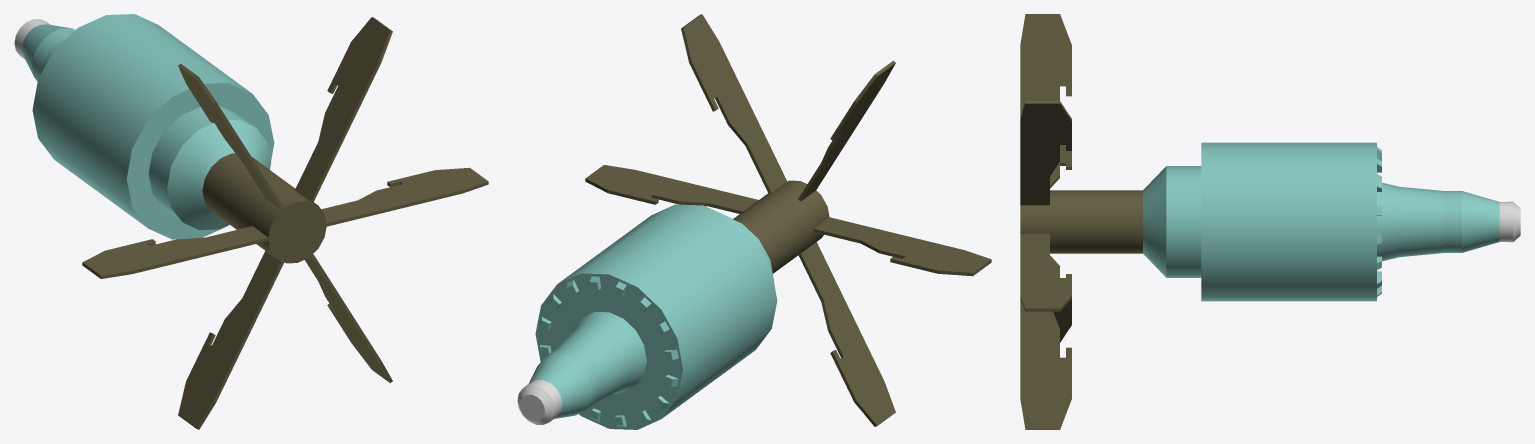
File: heat_bullet_3bk18m.fbx
The picture shows the model from 3 angles, left to right: view 1: azimuth 30°, elevation 25°; view 2: azimuth 150°, elevation 25°; view 3: azimuth 270°, elevation 25°; orthographic projection. The views are drawn at different scales.
Parts seen in each view (by area): view 1: Cylinder.003; view 2: Cylinder.003; view 3: Cylinder.003.
Part boxes in pixels (x1,y1,x2,y2): Cylinder.003: [14, 14, 488, 429]; Cylinder.003: [517, 14, 991, 429]; Cylinder.003: [1020, 14, 1520, 429].
Bounding box in the file's own units: 249 × 217 × 299.
